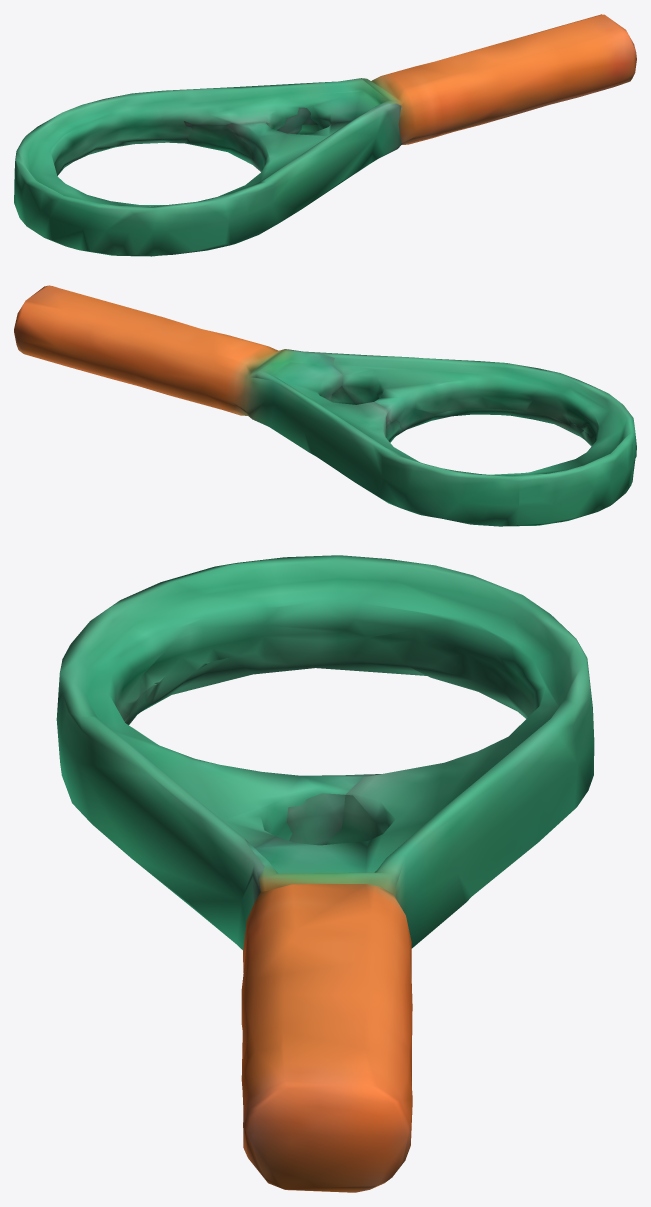
Rendered from Magnifying_Glassassrt-medium.glb.
3 views of the same model, one above another, from view 1: azimuth 30°, elevation 25°; view 2: azimuth 150°, elevation 25°; view 3: azimuth 270°, elevation 25° (orthographic). The views are drawn at different scales.
Parts seen in each view (by area): view 1: Magnifying_Glassassrt; view 2: Magnifying_Glassassrt; view 3: Magnifying_Glassassrt.
Part boxes in pixels (box(x1,y1,x2,y2)): Magnifying_Glassassrt: box(14, 14, 636, 256); Magnifying_Glassassrt: box(14, 285, 636, 526); Magnifying_Glassassrt: box(56, 555, 594, 1192).
Bounding box in the file's own units: 0.1516 × 0.0168 × 0.0602.
1 material, 1 textured.
